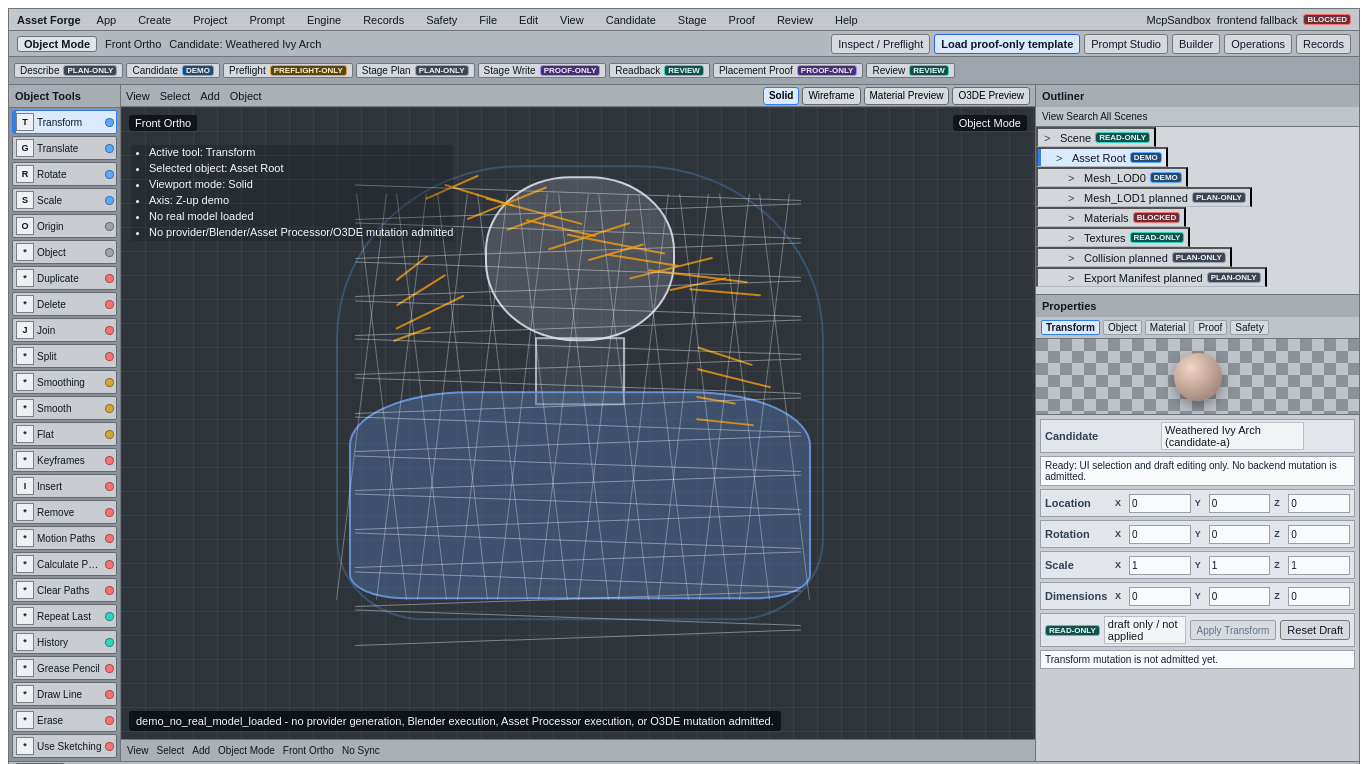
Test: AssetForgeBlenderCockpit › displays and copies prompt templates without auto-execution
Click the button "Proof" below "Properties": [1210, 328] box 1193,320 -> 1227,335
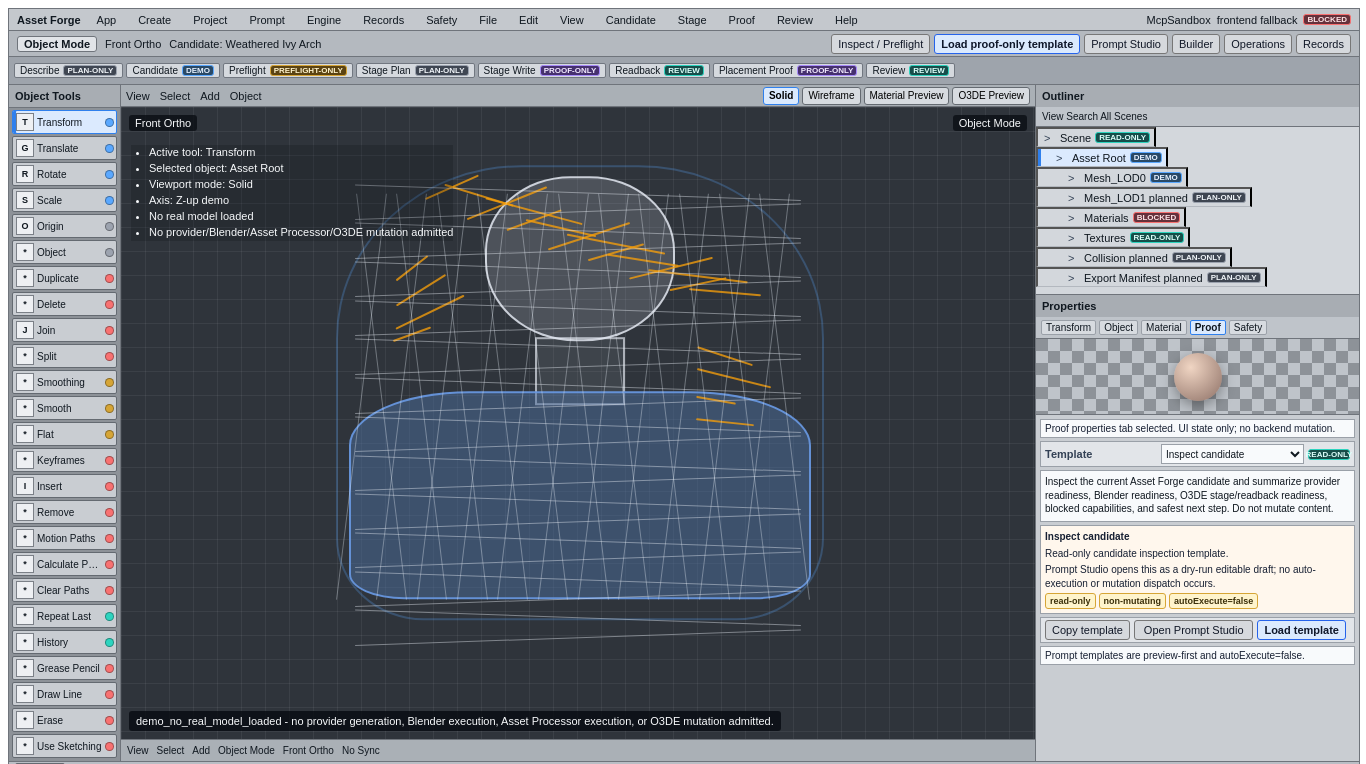
Select "Placement proof-only" in the dropdown named "Prompt template selector": [1232, 454] box 1161,444 -> 1304,464
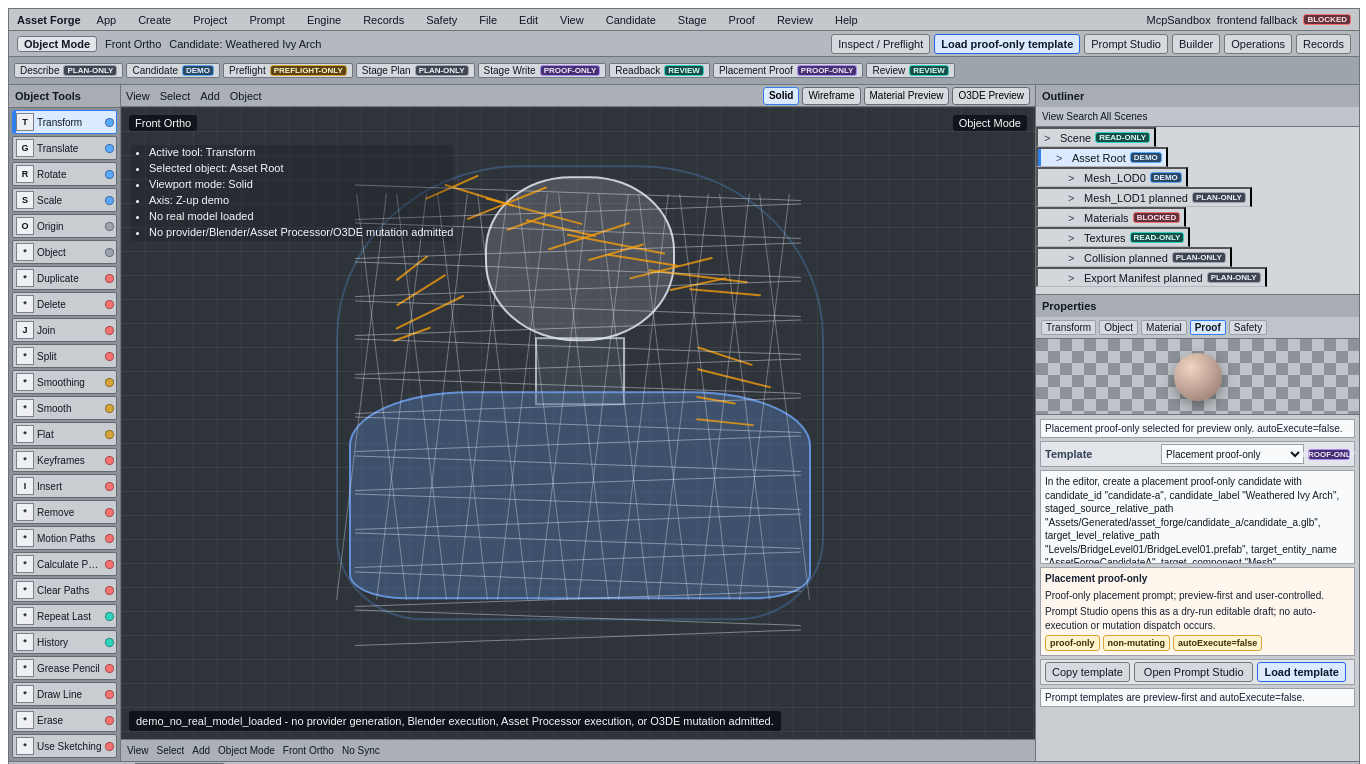
Check: the text "candidate_label \"Weathered Ivy Arch\"" is shown, box 1045,476 -> 1339,636
Click the button "Copy template": [1087, 672] box 1045,662 -> 1130,682
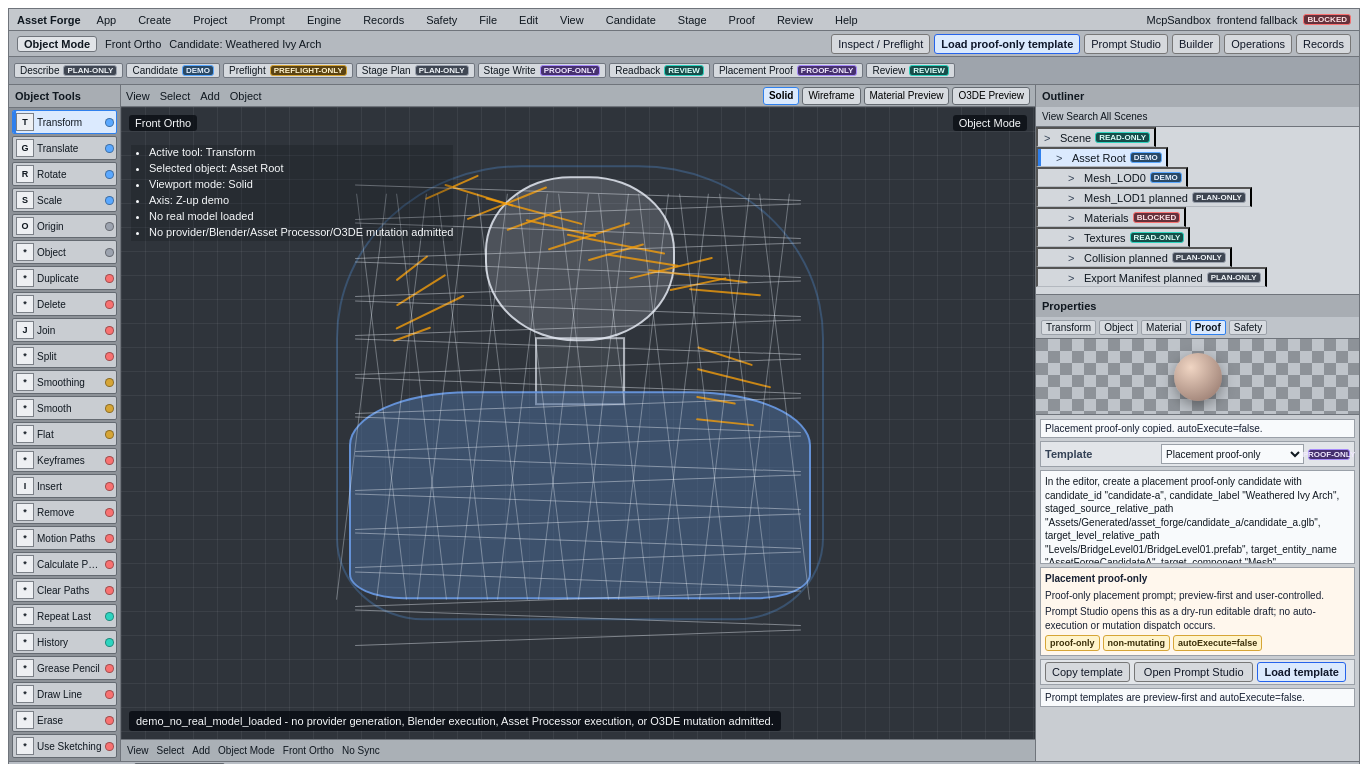
Check: the message shows "Placement proof-only copied. autoExecute=false", box 1045,423 -> 1263,434
